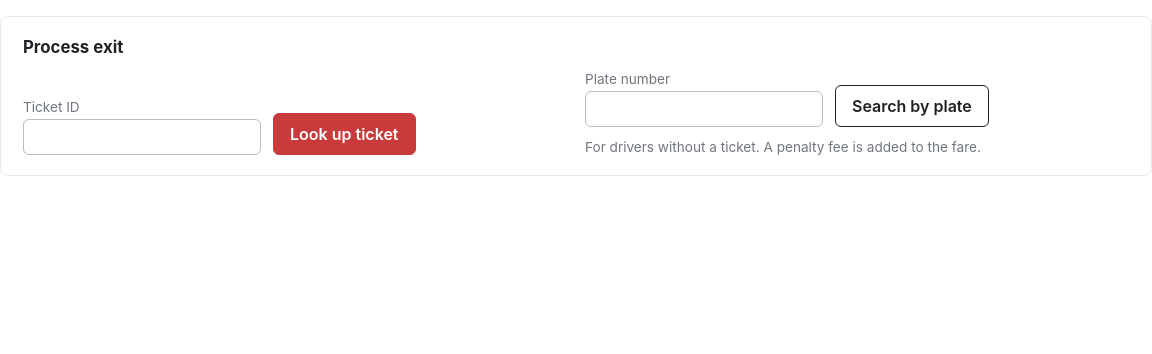
it: ExitConsole › notifies the admin about an overstay from the found vehicle
Type "TKT-OVER" into the field labelled "Ticket ID".
click(142, 137); type("TKT-OVER")  # box [23,119,261,155]
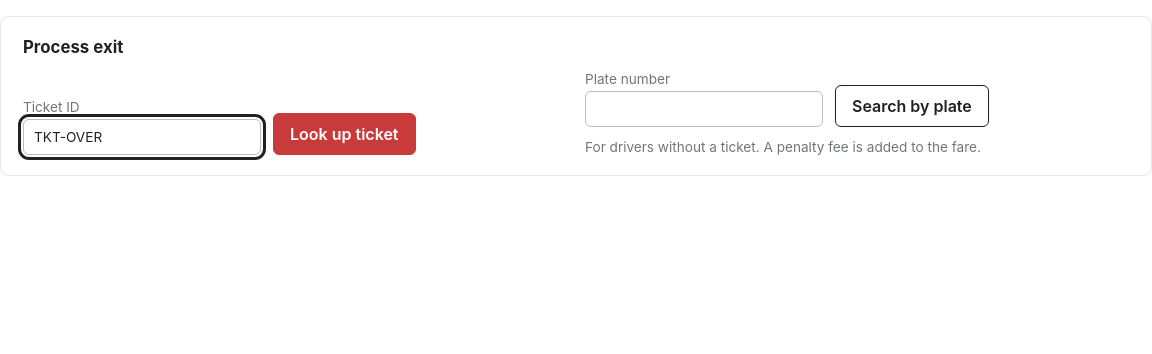
Click the button "Look up ticket".
click(344, 134)  # box [273,113,416,155]
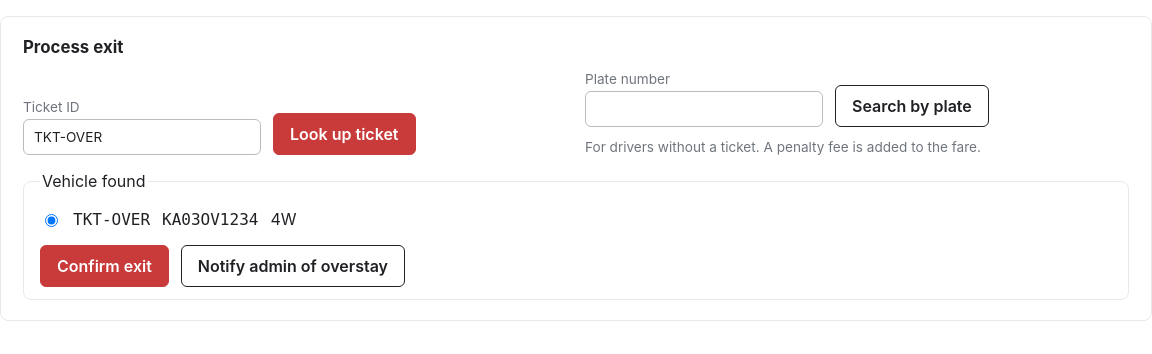
Expected: the text "KA03OV1234" is shown, [162,210,258,228]
Click the button "Notify admin of overstay".
click(293, 266)  # box [181,245,405,287]
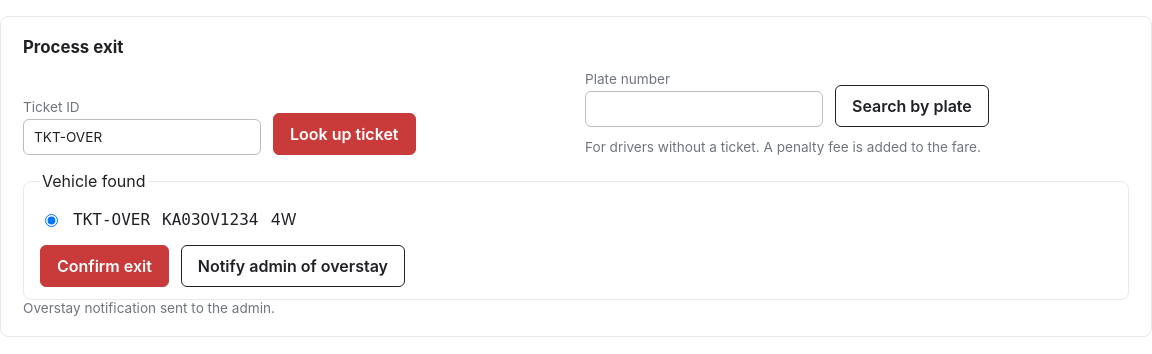
Expected: the message shows "notification sent", [23,300,275,316]
